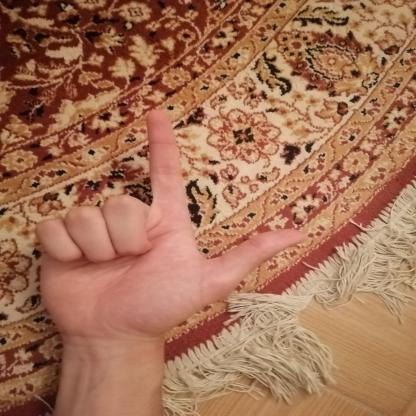LAAM: (16, 98, 321, 360)
